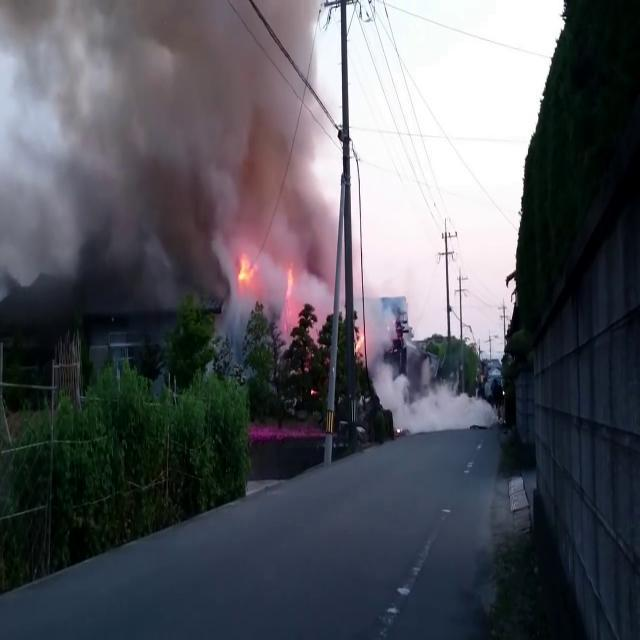Fire: (235, 254, 262, 292)
Smoke: (1, 0, 342, 362), (374, 360, 491, 436)
